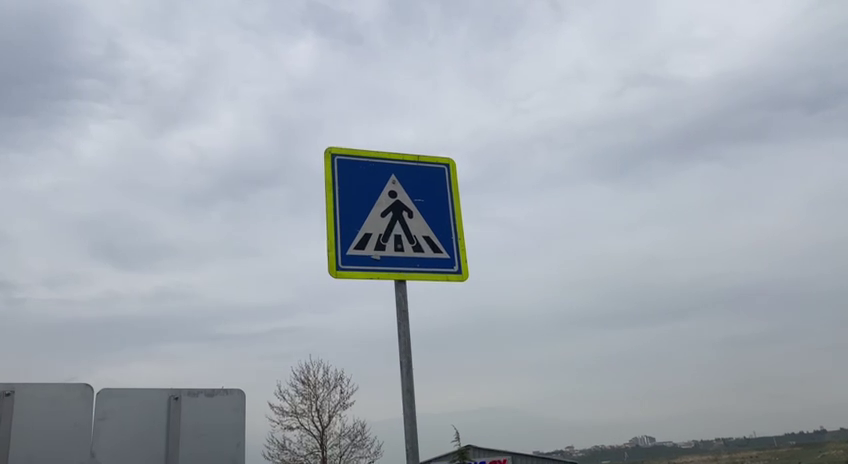pedestrianCrossing: (322, 143, 471, 285)
